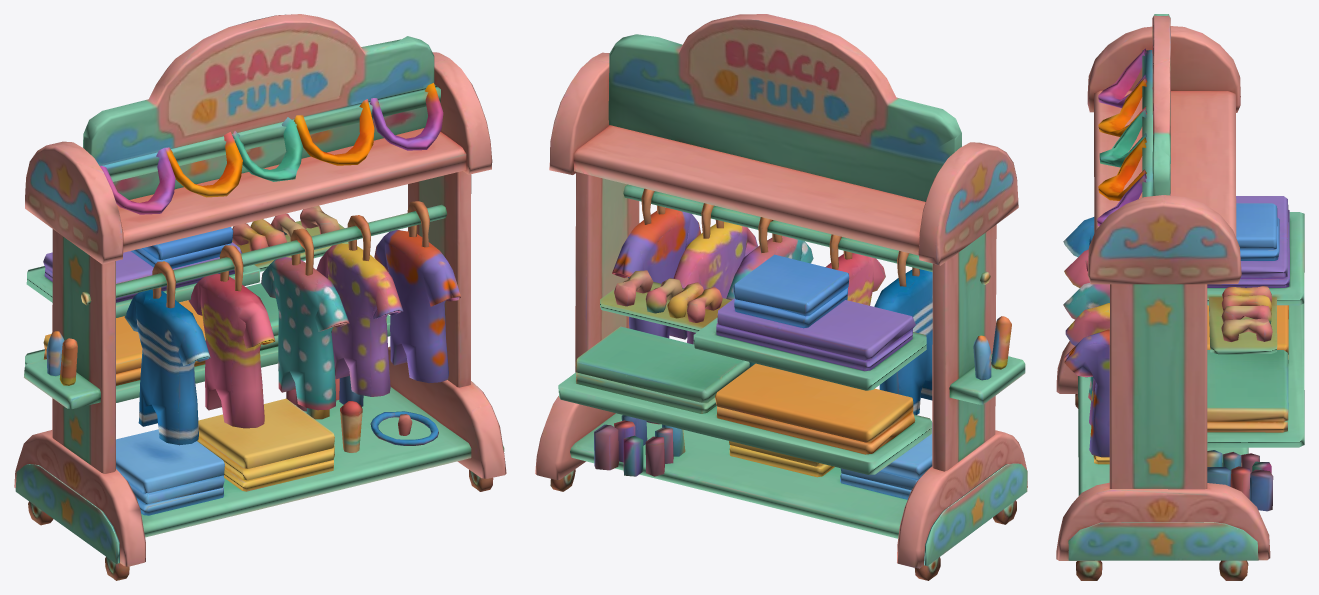
The model's file is surf-wetsuit-rack.glb.
3 views of the same model, side by side, from view 1: azimuth 30°, elevation 25°; view 2: azimuth 150°, elevation 25°; view 3: azimuth 270°, elevation 25° (orthographic). The views are drawn at different scales.
Parts seen in each view (by area): view 1: geometry_0; view 2: geometry_0; view 3: geometry_0.
Boxes of the visible parts, <box> form: geometry_0: <box>14,14,506,580</box>; geometry_0: <box>535,14,1027,580</box>; geometry_0: <box>1056,14,1304,580</box>.
Size of the model in its own units: 0.8979 by 1 by 0.4917.
1 material, 1 textured.
